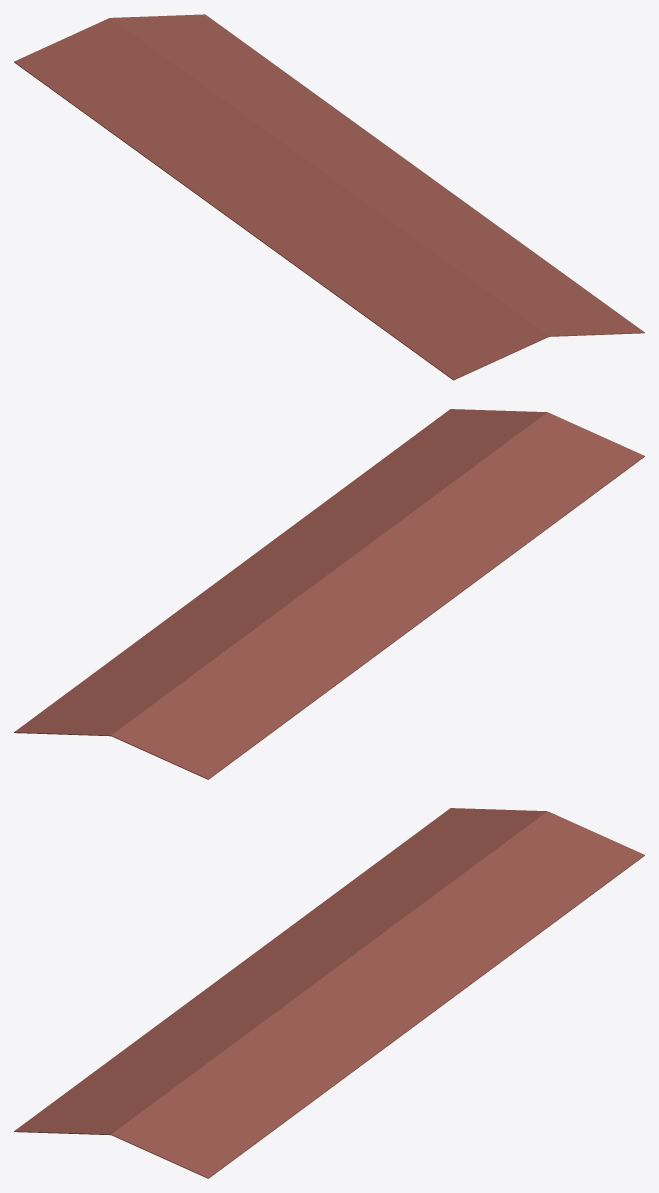
File: floor2.glb
3 views of the same model, one above another, from view 1: azimuth 30°, elevation 25°; view 2: azimuth 150°, elevation 25°; view 3: azimuth 330°, elevation 25° (orthographic).
Visible parts, largest first — view 1: IfcBuildingElementProxy/Cobert.-008; view 2: IfcBuildingElementProxy/Cobert.-008; view 3: IfcBuildingElementProxy/Cobert.-008.
Boxes of the visible parts, box(x1,y1,x2,y2) form: IfcBuildingElementProxy/Cobert.-008: box(14, 14, 644, 380); IfcBuildingElementProxy/Cobert.-008: box(14, 409, 644, 779); IfcBuildingElementProxy/Cobert.-008: box(14, 808, 644, 1178).
Bounding box in the file's own units: 13.13 × 1.34 × 50.71.
